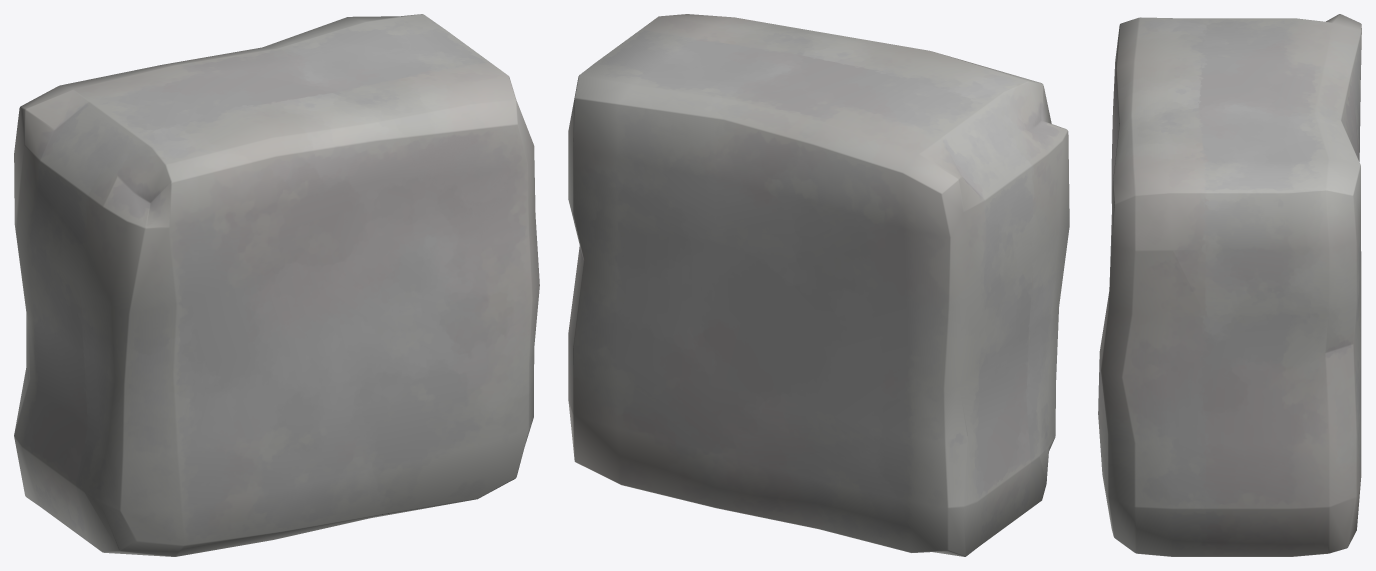
File: stone.fbx
3 views of the same model, side by side, from view 1: azimuth 30°, elevation 25°; view 2: azimuth 150°, elevation 25°; view 3: azimuth 270°, elevation 25° (orthographic). The views are drawn at different scales.
Visible parts, largest first — view 1: stone; view 2: stone; view 3: stone.
Boxes of the visible parts, x1,y1,x2,y2 form: stone: (14, 14, 539, 556); stone: (568, 14, 1069, 556); stone: (1098, 14, 1361, 556).
Bounding box in the file's own units: 47.71 × 45.47 × 27.77.
